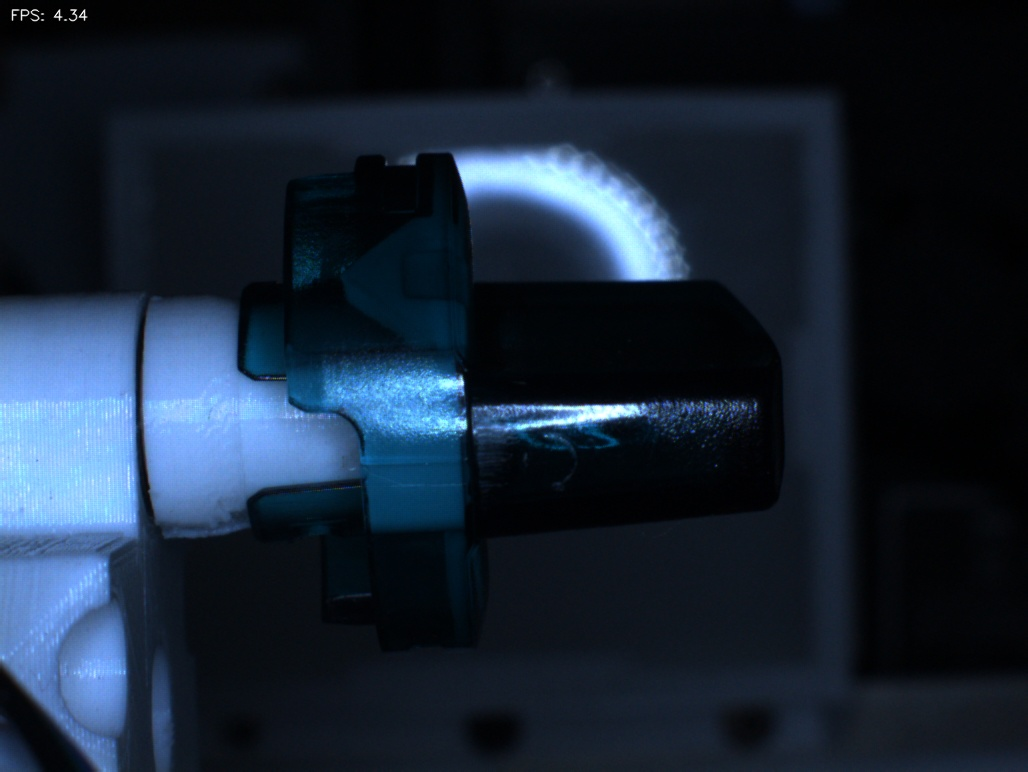DentOk: (324, 238, 393, 329)
